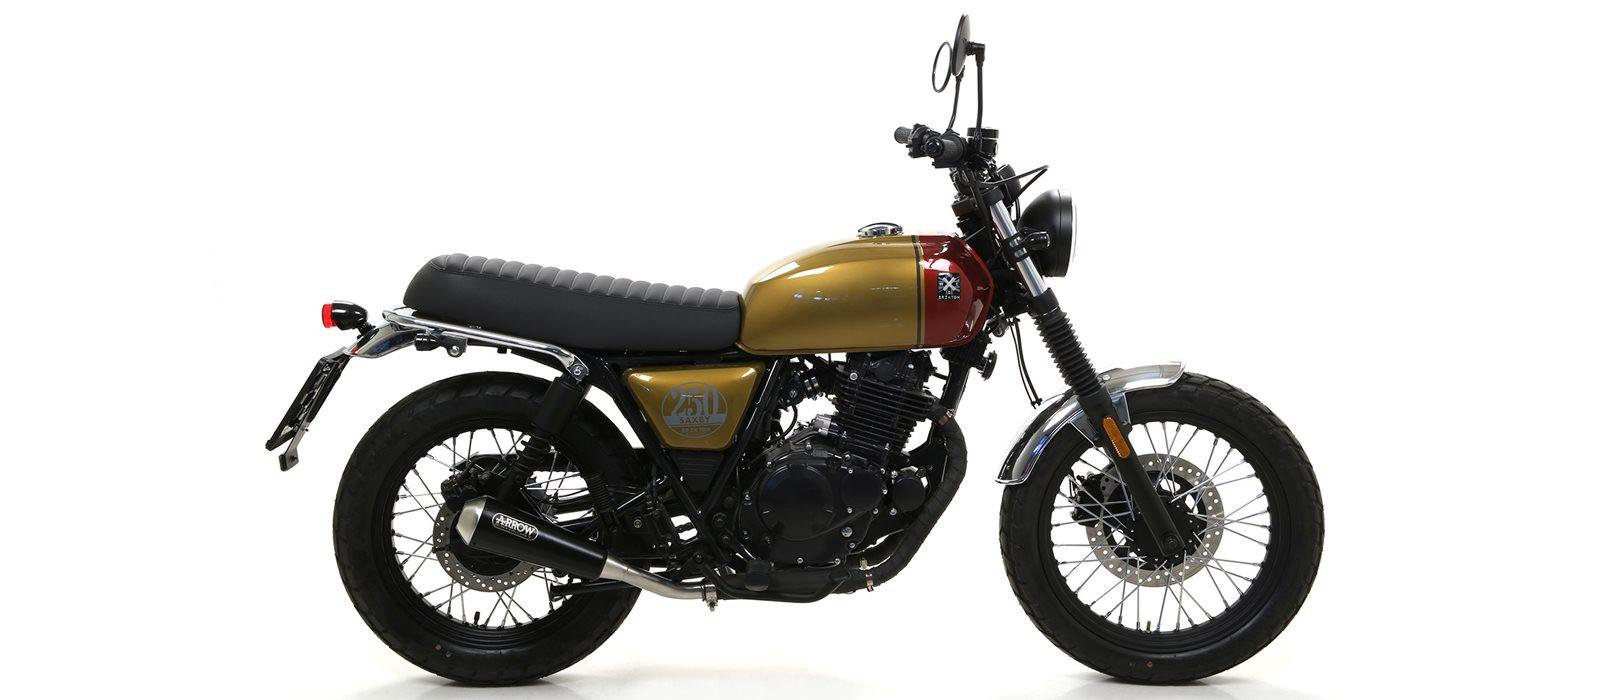engine-chasis: (623, 348, 947, 603), (495, 360, 588, 504), (549, 579, 637, 603)
exhaust: (767, 397, 968, 595), (455, 494, 742, 612)
frontside: (939, 184, 1188, 557), (927, 422, 944, 449)
handlebar: (893, 12, 1050, 226)
rearside: (265, 300, 773, 568)
seat: (403, 252, 742, 350)
tank: (734, 221, 995, 356)
wheel: (998, 371, 1326, 685), (332, 370, 643, 687), (513, 397, 645, 523), (1008, 316, 1044, 410)
